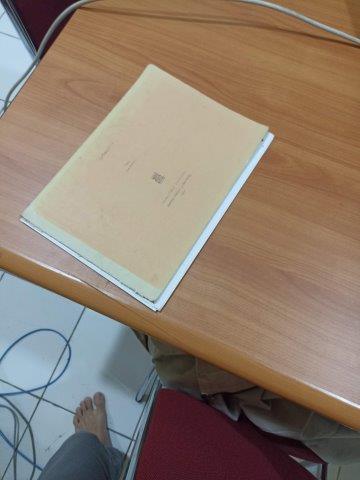kertas: (21, 64, 274, 310)
